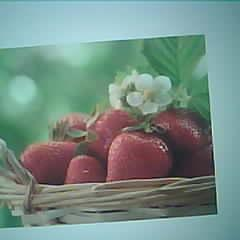straw-ripe: (106, 123, 169, 181)
